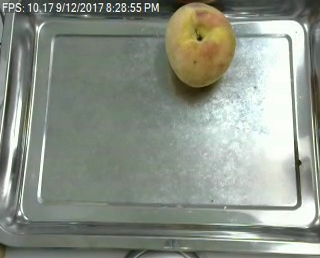Peach: (166, 1, 236, 88)
